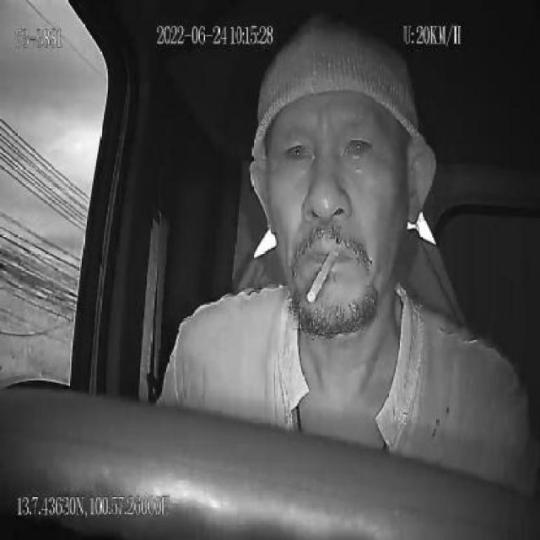smoking: (307, 248, 339, 312)
